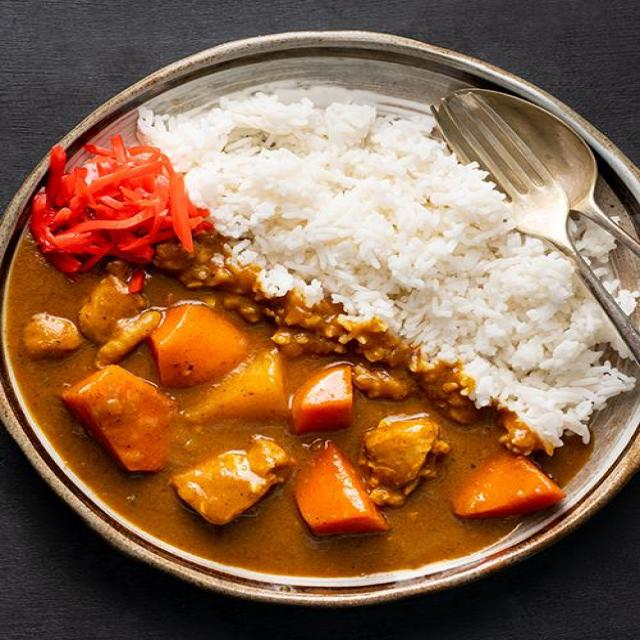chicken: (0, 267, 448, 570)
rice: (221, 102, 640, 370)
